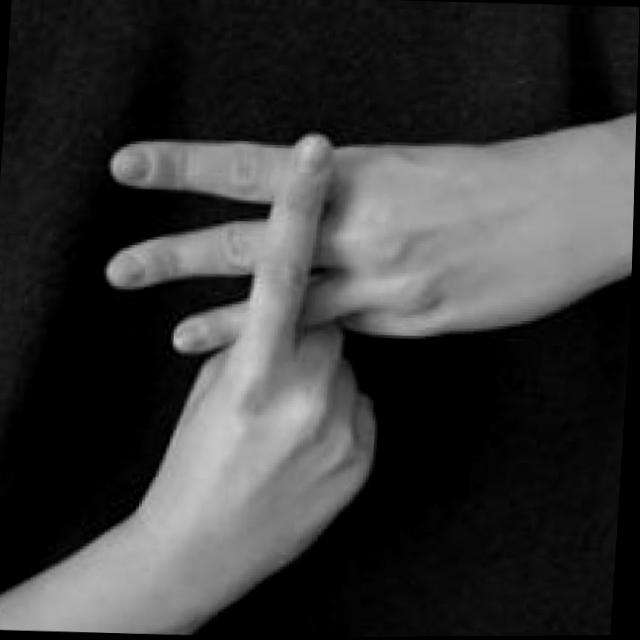E: (66, 108, 552, 594)
